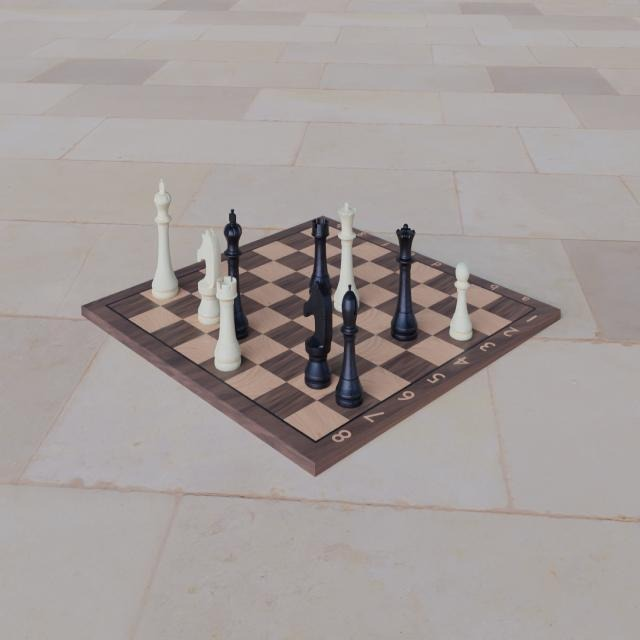black-bishop: (334, 283, 365, 409)
black-king: (219, 205, 251, 343)
black-knight: (301, 276, 334, 392)
black-queen: (389, 223, 419, 345)
black-rook: (307, 214, 332, 297)
white-king: (150, 177, 181, 303)
white-knight: (194, 228, 221, 328)
white-pawn: (448, 260, 474, 343)
white-queen: (333, 201, 363, 315)
white-rook: (212, 275, 243, 379)
